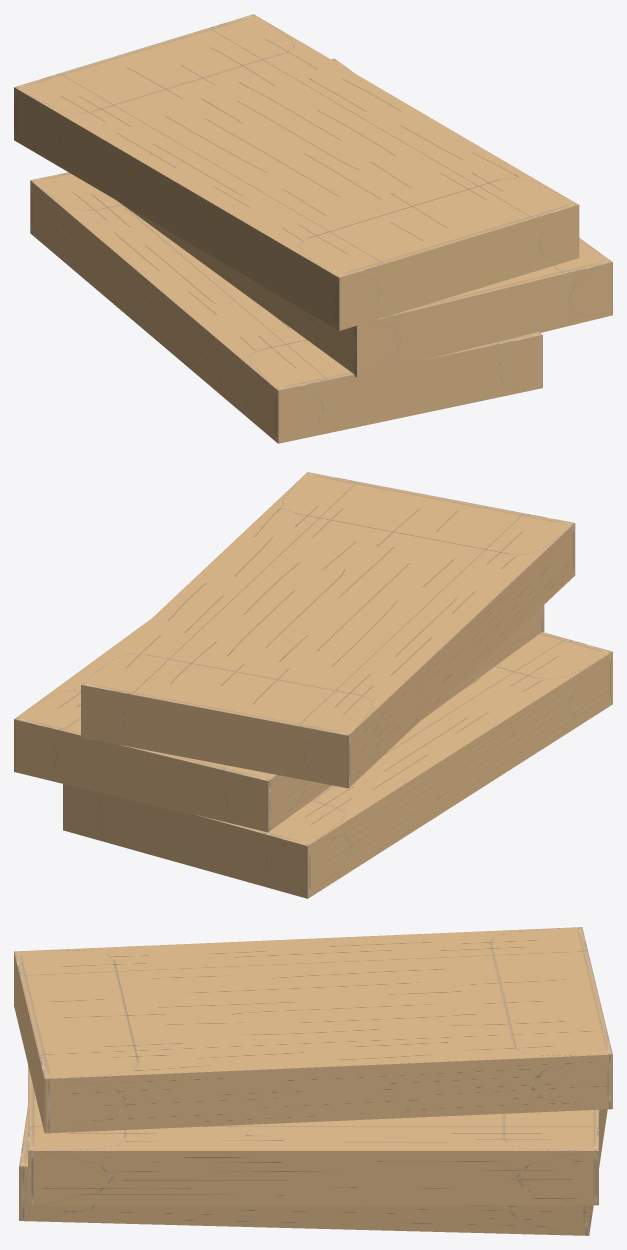
File: wood.fbx
3 views of the same model, one above another, from view 1: azimuth 30°, elevation 25°; view 2: azimuth 150°, elevation 25°; view 3: azimuth 270°, elevation 25° (orthographic). The views are drawn at different scales.
Visible parts, largest first — view 1: pCube2, pCube1, pCube4; view 2: pCube2, pCube1, pCube4; view 3: pCube2, pCube4, pCube1.
Part boxes in pixels (x1,y1,x2,y2): pCube2: (14,14,579,330); pCube1: (30,172,542,443); pCube4: (118,58,612,377); pCube2: (81,472,575,788); pCube1: (63,632,612,898); pCube4: (14,605,544,832); pCube2: (14,927,612,1133); pCube4: (28,1065,598,1205); pCube1: (19,1106,607,1235).
Size of the model in its own units: 0.2884 by 0.1354 by 0.4417.
Materials: 1 (1 with a texture image).
